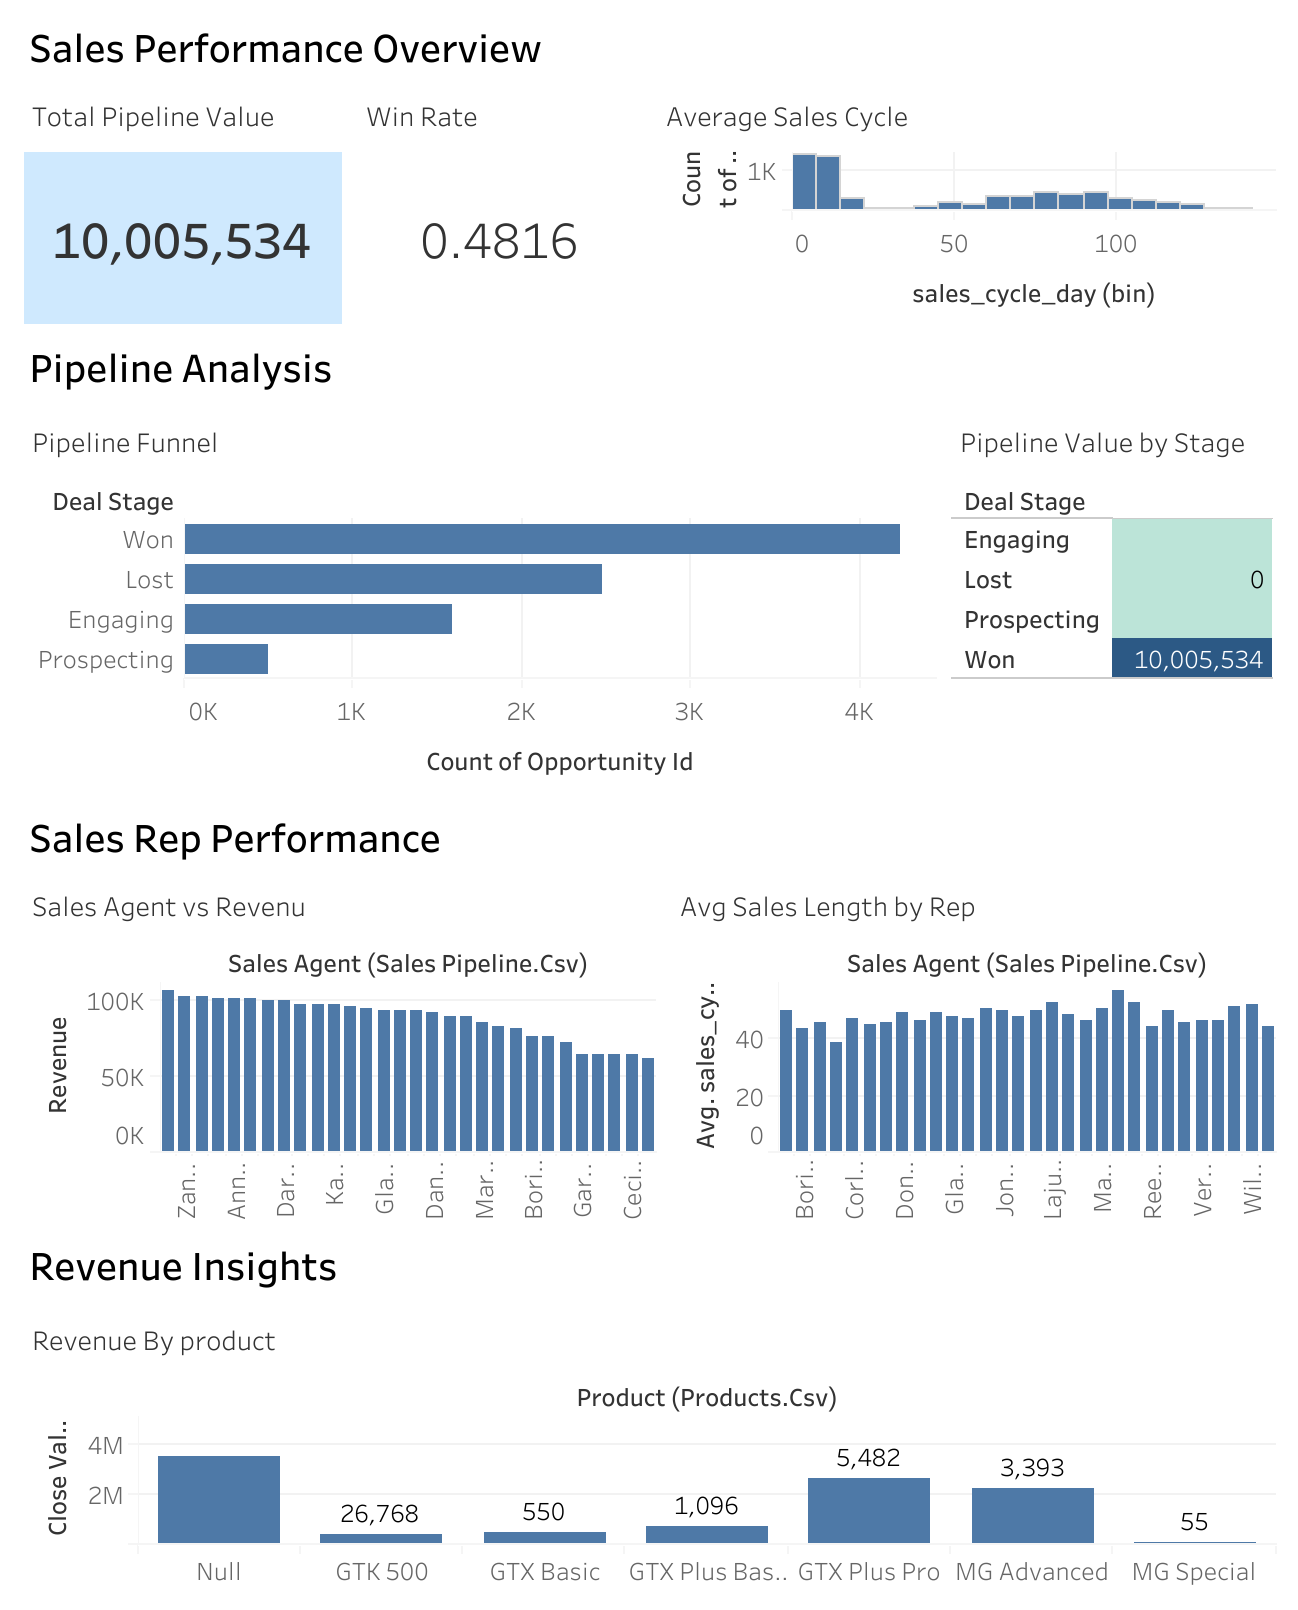

This screenshot's page, from the dashboard's own definition file:
{"tool":"tableau","page":{"name":"Sales Performance Overview","canvas":[650,860],"ordinal":0},"visuals":[{"type":"text","box":[8,8,634,32]},{"type":"worksheet","title":"Total Pipeline Value","mark":"Automatic","box":[8,40,208,137.1]},{"type":"worksheet","title":"Win Rate","mark":"Automatic","box":[216,40,131,137.1]},{"type":"worksheet","title":"Average Sales Cycle","mark":"Automatic","rows":["Calculation_4296363723910819848"],"cols":["sales_cycle_day (bin)"],"box":[347,40,295,137.1]},{"type":"text","box":[8,177.1,634,37.9]},{"type":"worksheet","title":"Pipeline Funnel","mark":"Automatic","rows":["deal_stage"],"cols":["opportunity_id"],"box":[8,215,464,215]},{"type":"worksheet","title":"Pipeline Value by Stage","mark":"Square","rows":["deal_stage"],"box":[472,215,170,215]},{"type":"text","box":[8,430,634,32]},{"type":"worksheet","title":"Sales Agent vs Revenu","mark":"Automatic","rows":["revenue"],"cols":["sales_agent (sales_pipeline.csv)"],"box":[8,462,324,195]},{"type":"worksheet","title":"Avg Sales Length by Rep","mark":"Automatic","rows":["Calculation_4296363723910819848"],"cols":["sales_agent (sales_pipeline.csv)"],"box":[332,462,310,195]},{"type":"text","box":[8,657,634,76]},{"type":"worksheet","title":"Revenue By product","mark":"Automatic","rows":["close_value"],"cols":["product (products.csv)"],"box":[8,733,634,119]}]}

Visuals, with their boxes on the page's 650x860 design canvas (x1, y1, x2, y2). These are canvas units, not pixel positions in the 1298x1610 screenshot, which may show the page scaled, cropped or inside an application window:
text: [8, 8, 642, 40]
"Total Pipeline Value" worksheet: [8, 40, 216, 177]
"Win Rate" worksheet: [216, 40, 347, 177]
"Average Sales Cycle" worksheet: [347, 40, 642, 177]
text: [8, 177, 642, 215]
"Pipeline Funnel" worksheet: [8, 215, 472, 430]
"Pipeline Value by Stage" worksheet (Square marks): [472, 215, 642, 430]
text: [8, 430, 642, 462]
"Sales Agent vs Revenu" worksheet: [8, 462, 332, 657]
"Avg Sales Length by Rep" worksheet: [332, 462, 642, 657]
text: [8, 657, 642, 733]
"Revenue By product" worksheet: [8, 733, 642, 852]
